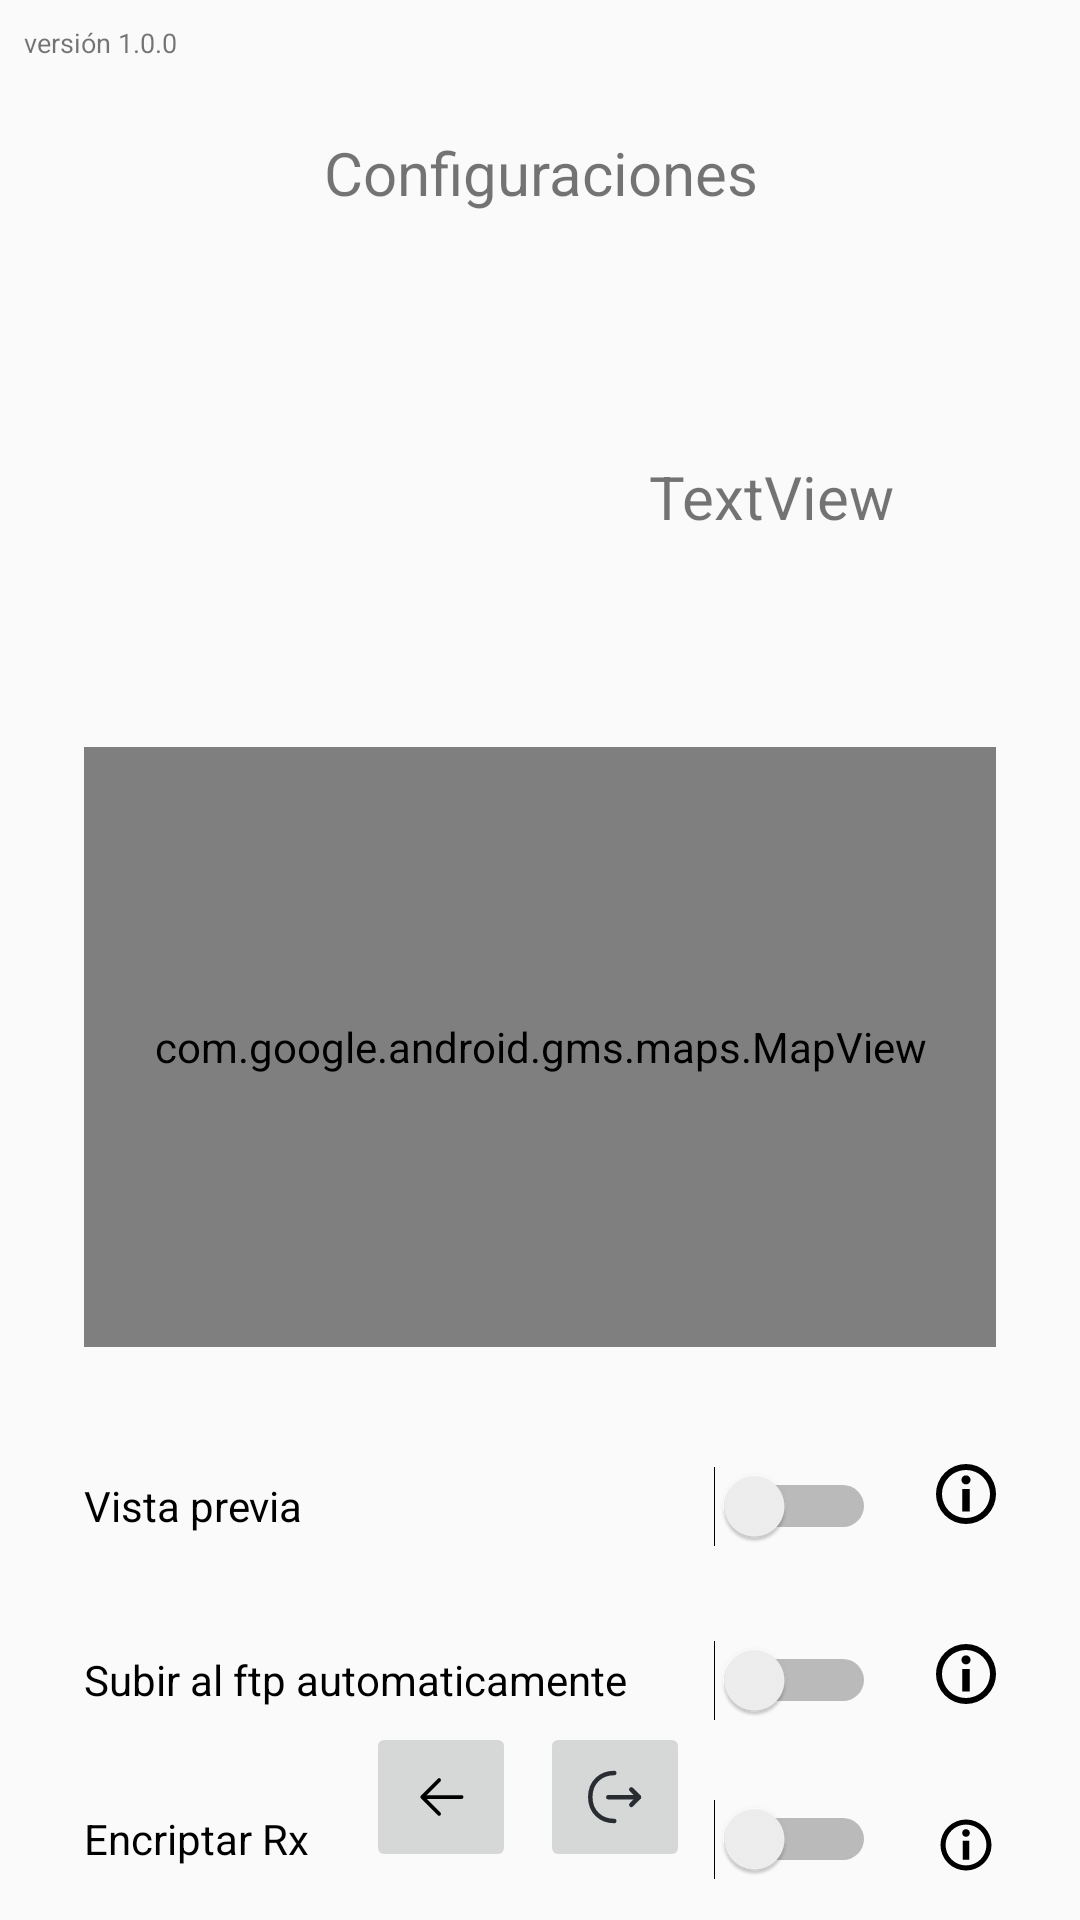

Named icons in this screenshot (1080×1920) and their bounding boxes, (x1, y1, x2, y2):
back: (378, 1740, 504, 1854)
info: (936, 1464, 996, 1524), (936, 1644, 996, 1704), (940, 1819, 992, 1871)
